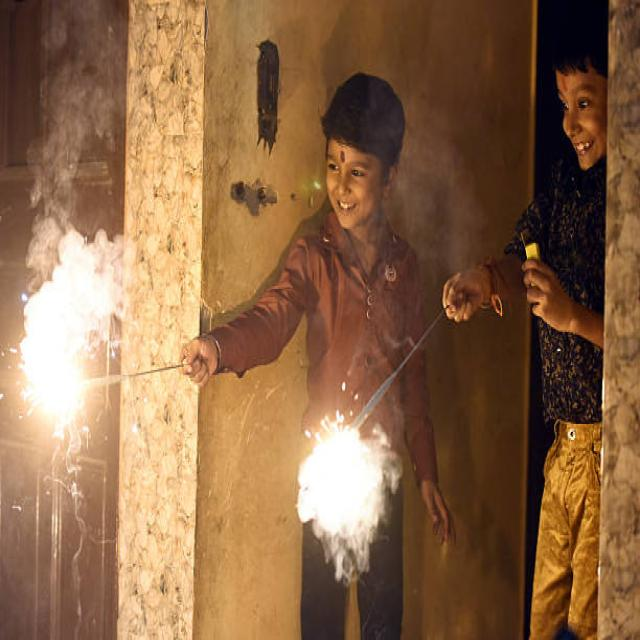fire: (294, 380, 379, 538), (0, 292, 90, 441)
